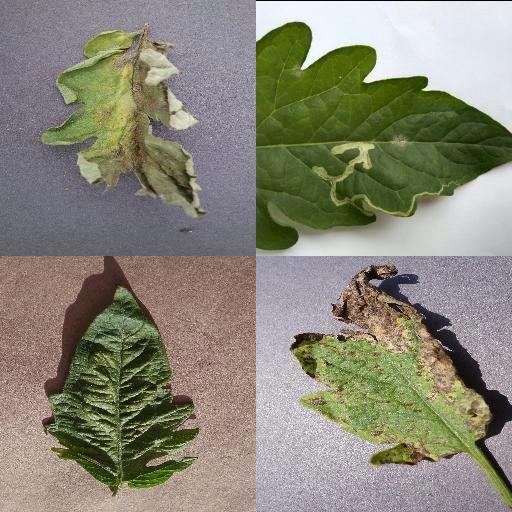Late Blight: (41, 27, 207, 221)
Leaf Miner: (256, 20, 512, 249)
Septoria: (290, 263, 492, 465)
Spider Mites: (47, 283, 201, 489)
